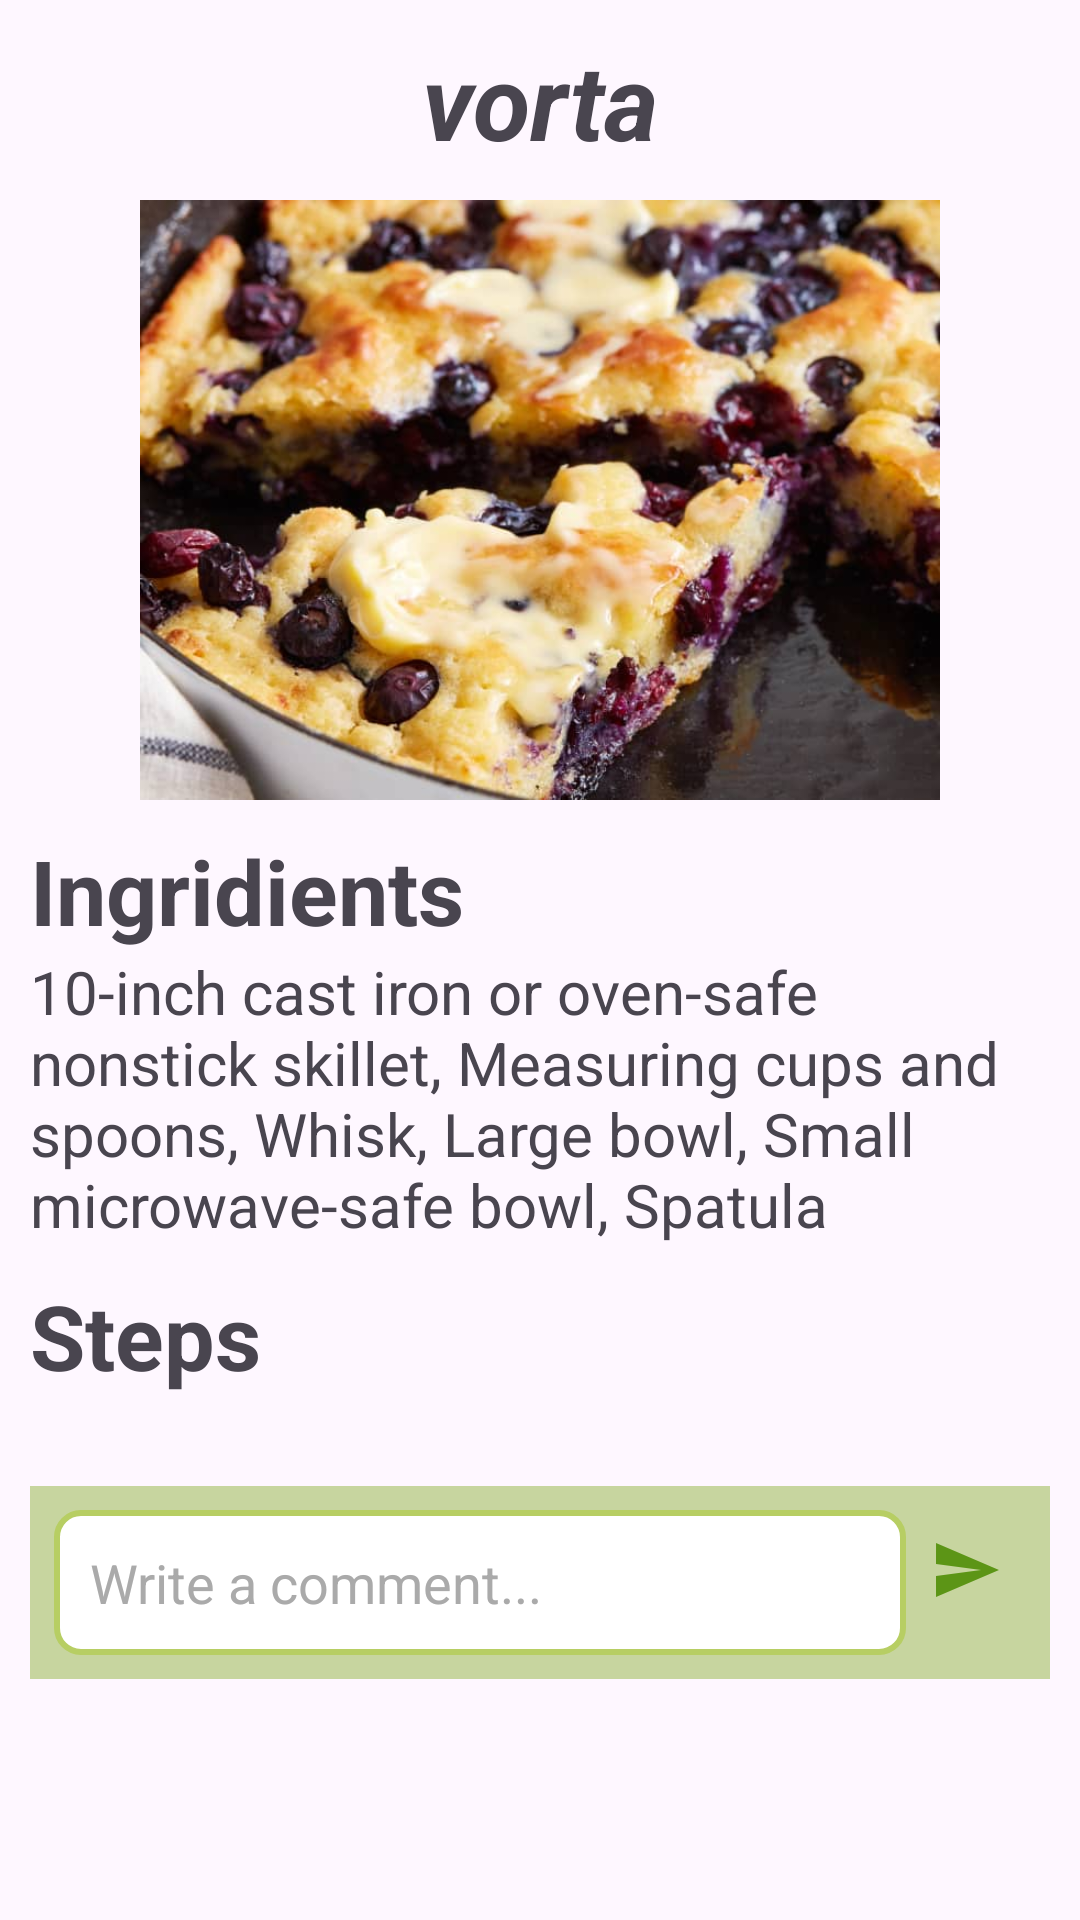

Screen size 1080w x 1920h. Icon name, then its center in pixels as point (x, y):
Send: point (967, 1570)
